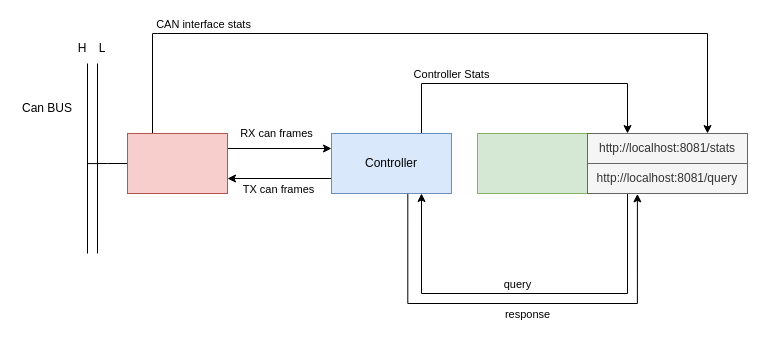
Some shapes in this 765 by 337 pixel diagram are drawn without their labels. The box of each missing label's shape, as (x1, y1, x2, y2) in pixels:
CAN interface: (126, 132, 228, 194)
Webserver: (476, 132, 588, 194)
